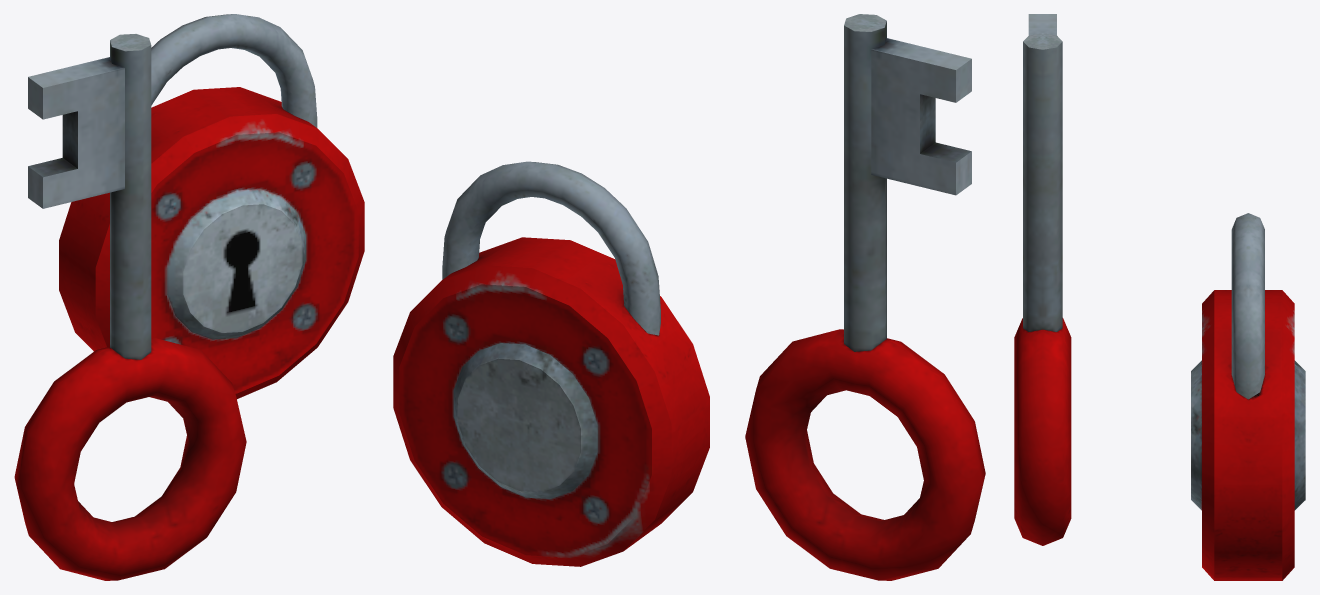
The model's file is Key_1.fbx.
3 renders of one model, left to right at view 1: azimuth 30°, elevation 25°; view 2: azimuth 150°, elevation 25°; view 3: azimuth 270°, elevation 25°, orthographic. The views are drawn at different scales.
Visible parts, largest first — view 1: lock_player.001, key_player.001; view 2: lock_player.001, key_player.001; view 3: lock_player.001, key_player.001.
Boxes of the visible parts, bbox=[...] form: lock_player.001: bbox=[59, 14, 364, 398]; key_player.001: bbox=[14, 34, 246, 580]; lock_player.001: bbox=[393, 161, 709, 566]; key_player.001: bbox=[745, 14, 985, 580]; lock_player.001: bbox=[1191, 213, 1305, 580]; key_player.001: bbox=[1014, 14, 1071, 545].
Bounding box in the file's own units: 2288 × 2649 × 1418.
